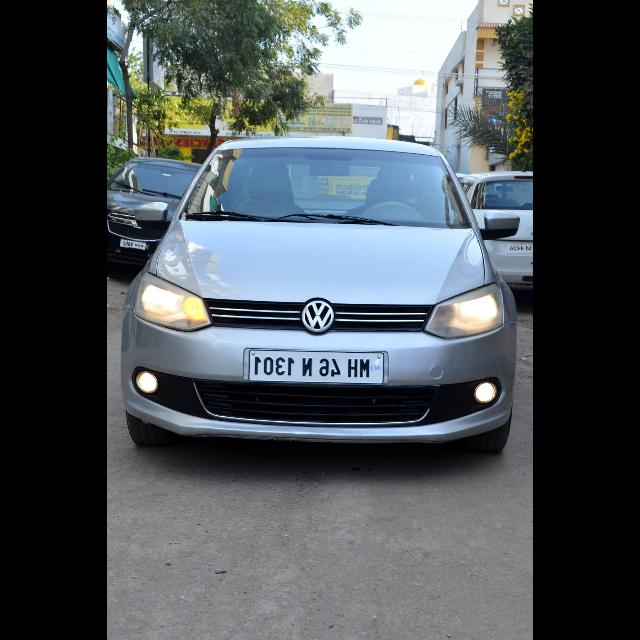vehicles: (117, 142, 517, 474), (106, 158, 204, 266), (452, 169, 532, 285)
